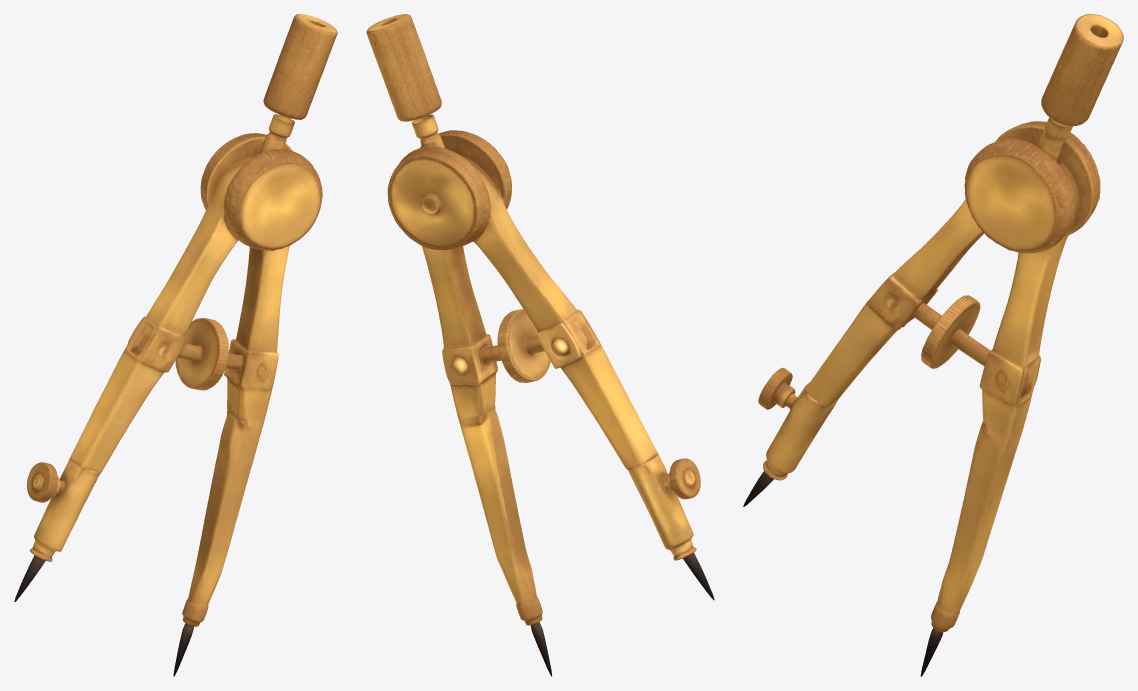
The model's file is art-balanced.glb.
The picture shows the model from 3 angles, left to right: view 1: azimuth 30°, elevation 25°; view 2: azimuth 150°, elevation 25°; view 3: azimuth 330°, elevation 25°; orthographic projection. The views are drawn at different scales.
Parts seen in each view (by area): view 1: Shelf pose; view 2: Shelf pose; view 3: Shelf pose.
Boxes of the visible parts, box(x1,y1,x2,y2) form: Shelf pose: box(14, 14, 337, 676); Shelf pose: box(366, 14, 714, 676); Shelf pose: box(743, 14, 1123, 676).
Bounding box in the file's own units: 0.5446 × 0.9799 × 0.1326.
Materials: 1 (1 with a texture image).
